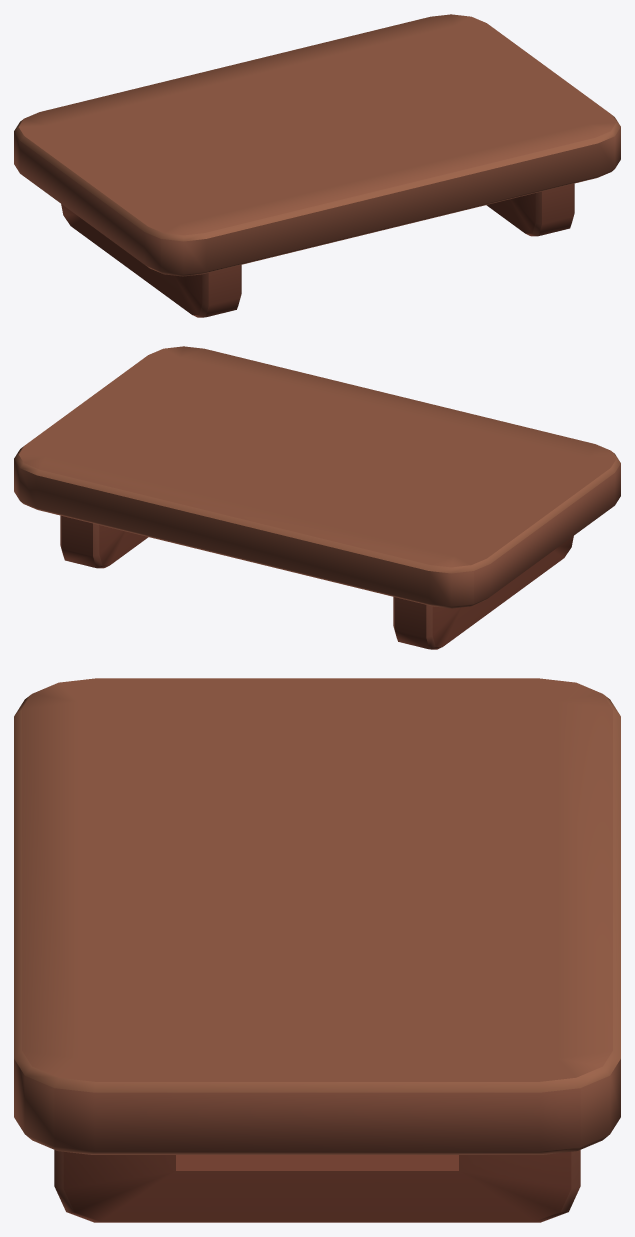
File: K_table_low.glb
3 renders of one model, top to bottom at view 1: azimuth 30°, elevation 25°; view 2: azimuth 150°, elevation 25°; view 3: azimuth 270°, elevation 25°, orthographic. The views are drawn at different scales.
Parts seen in each view (by area): view 1: table_low; view 2: table_low; view 3: table_low.
Boxes of the visible parts, x1=… form: table_low: x1=14, y1=14, x2=620, y2=317; table_low: x1=14, y1=346, x2=620, y2=649; table_low: x1=14, y1=678, x2=620, y2=1222.
Size of the model in its own units: 2.4 by 0.5 by 1.5.
